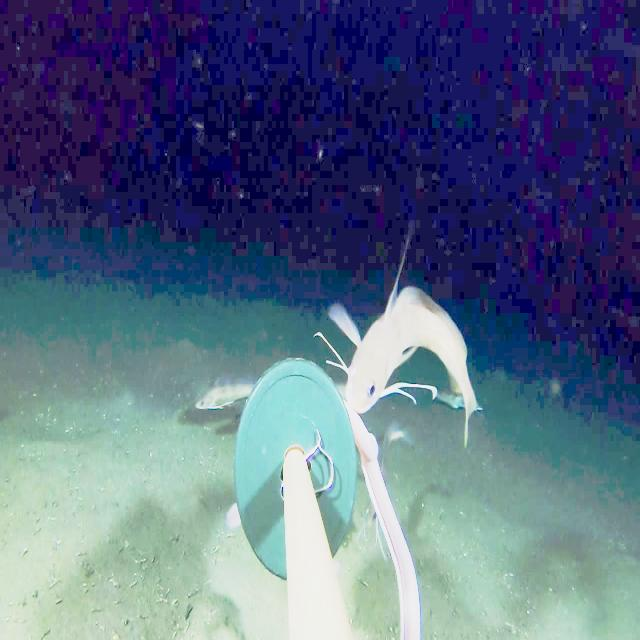eel: (342, 398, 425, 639), (224, 500, 242, 535)
fish: (304, 221, 496, 461), (191, 368, 263, 414)
pole: (234, 356, 358, 639)
